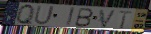B: (74, 7, 95, 28)
I: (65, 6, 77, 27)
Q: (16, 3, 35, 26)
T: (118, 10, 135, 30)
U: (33, 5, 56, 26)
V: (99, 9, 118, 29)
